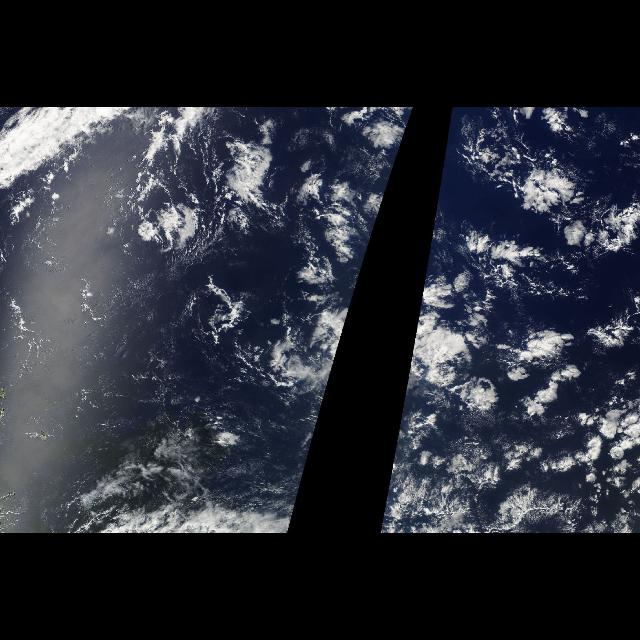Flower: (383, 112, 639, 510), (211, 110, 413, 503)
Gravel: (458, 187, 636, 291)
Sugar: (2, 232, 186, 434)
